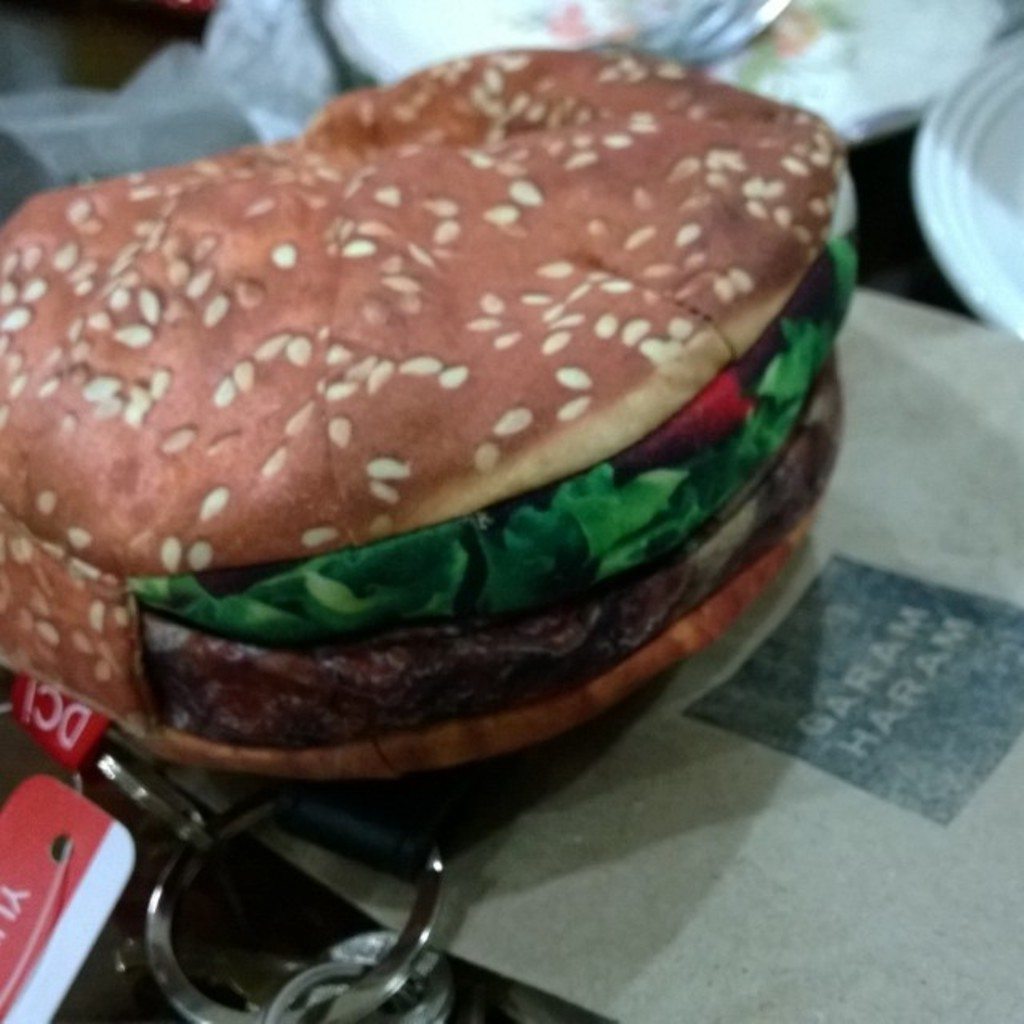Hamburger: (0, 46, 859, 784)
